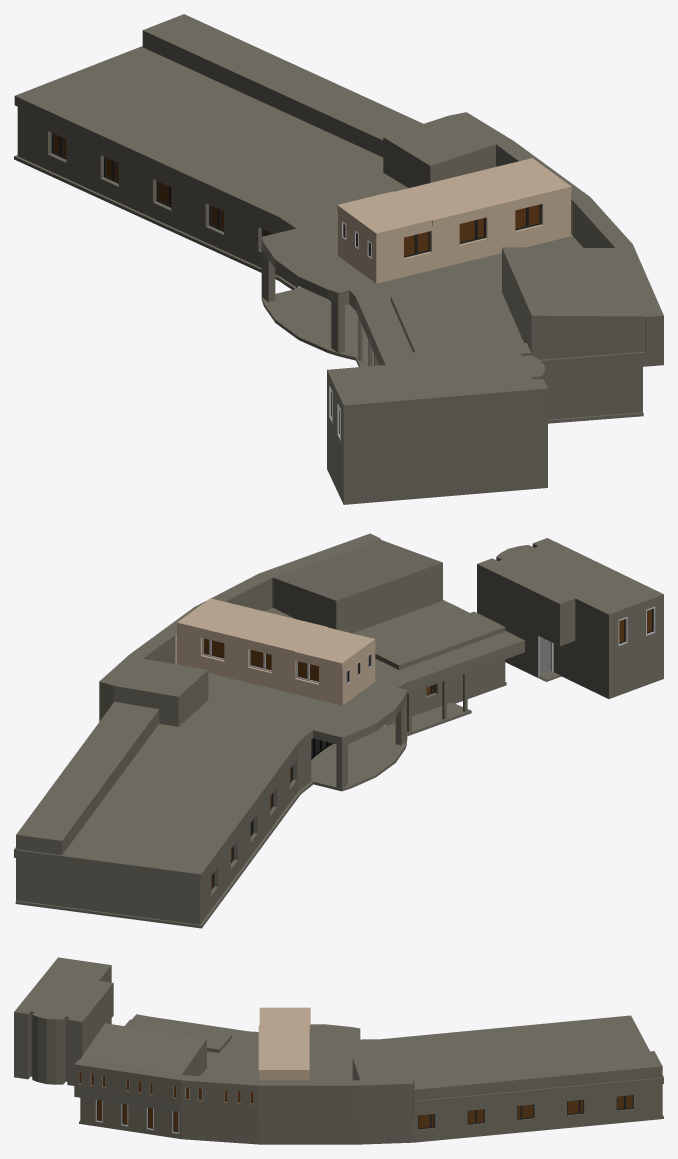
The model's file is infodep2.glb.
3 views of the same model, one above another, from view 1: azimuth 30°, elevation 25°; view 2: azimuth 150°, elevation 25°; view 3: azimuth 270°, elevation 25° (orthographic). The views are drawn at different scales.
Parts seen in each view (by area): view 1: dep info.001; view 2: dep info.001; view 3: dep info.001.
Boxes of the visible parts, box(x1,y1,x2,y2) form: dep info.001: box(14, 14, 663, 504); dep info.001: box(14, 533, 663, 928); dep info.001: box(14, 957, 663, 1144).
Bounding box in the file's own units: 65.86 × 17.93 × 141.
1 material, 1 textured.
